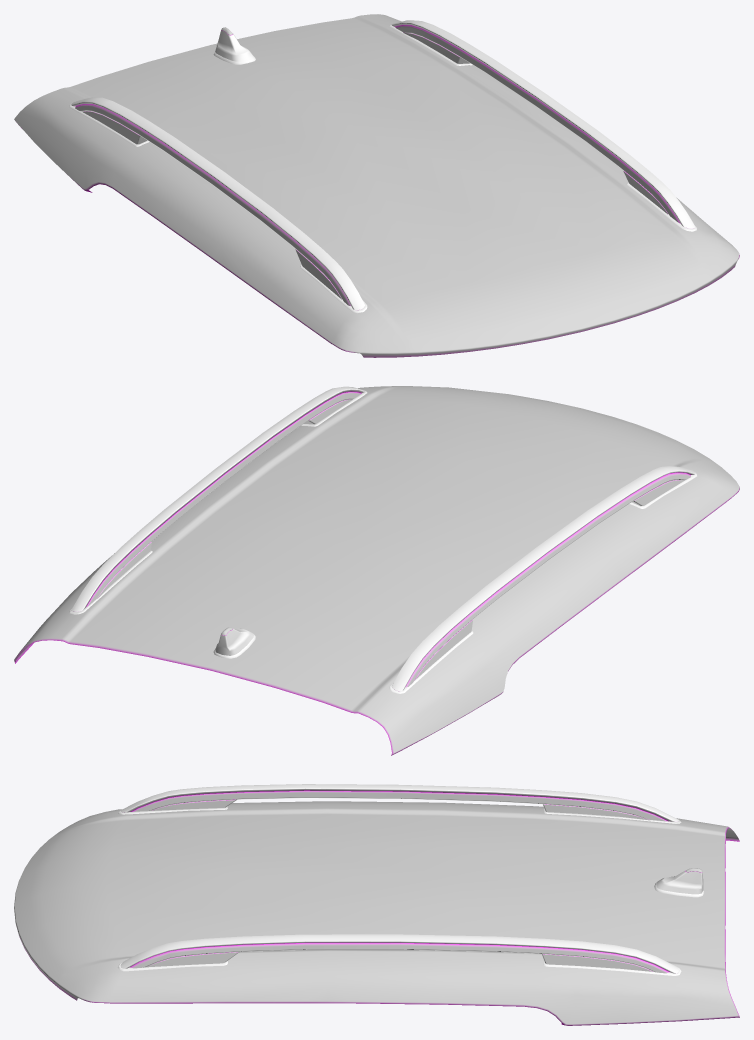
The model's file is Car_Mini_CountrymanJCW_2017_Roof_SetC.fbx.
3 renders of one model, top to bottom at view 1: azimuth 30°, elevation 25°; view 2: azimuth 150°, elevation 25°; view 3: azimuth 270°, elevation 25°, orthographic. The views are drawn at different scales.
Parts seen in each view (by area): view 1: Roof 6; view 2: Roof 6; view 3: Roof 6.
Boxes of the visible parts, left/top/right/bottom form: Roof 6: left=14, top=14, right=739, bottom=357; Roof 6: left=14, top=386, right=739, bottom=755; Roof 6: left=14, top=784, right=739, bottom=1025.
Size of the model in its own units: 1.28 by 0.2104 by 2.01.
